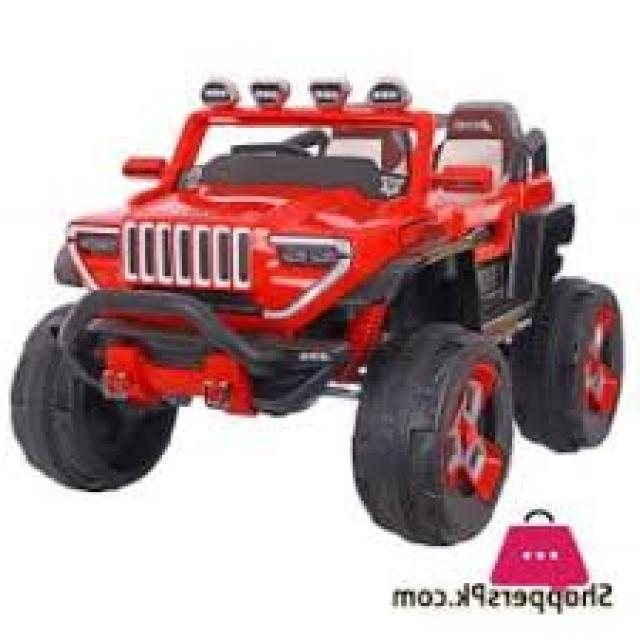Car: (11, 74, 626, 546)
